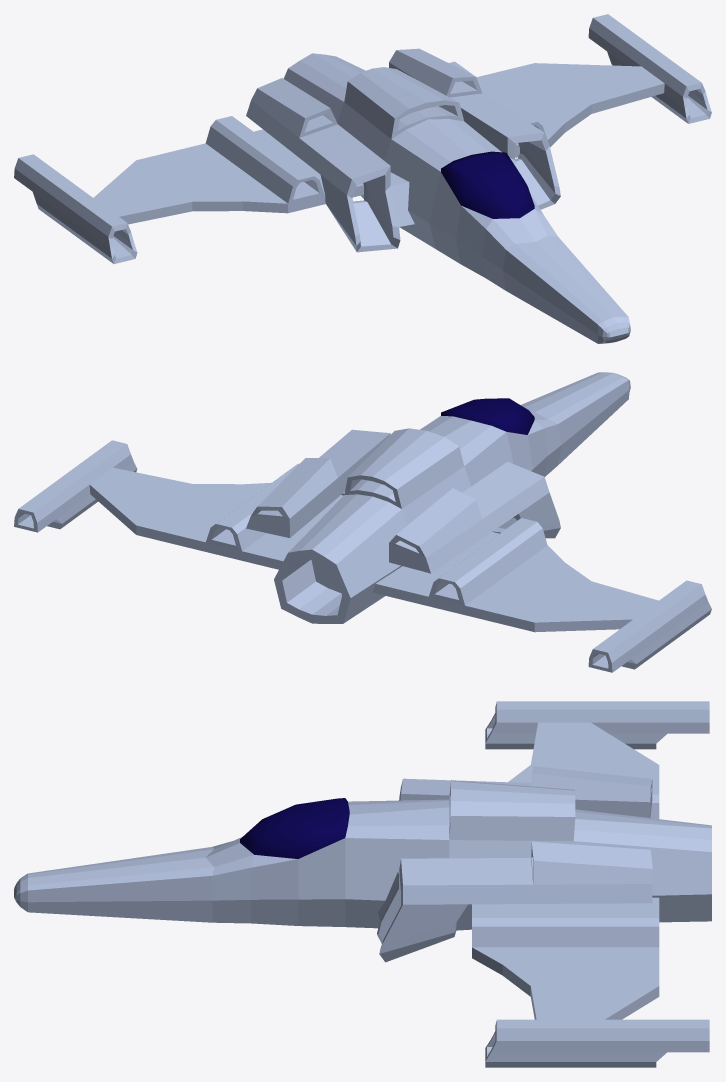
Rendered from Spaceship.gltf.
3 views of the same model, one above another, from view 1: azimuth 30°, elevation 25°; view 2: azimuth 150°, elevation 25°; view 3: azimuth 270°, elevation 25° (orthographic). The views are drawn at different scales.
Visible parts, largest first — view 1: Spaceship3; view 2: Spaceship3; view 3: Spaceship3.
Part boxes in pixels (bbox=[...]): Spaceship3: bbox=[14, 14, 711, 343]; Spaceship3: bbox=[14, 372, 711, 672]; Spaceship3: bbox=[14, 701, 711, 1067].
Bounding box in the file's own units: 10.38 × 1.86 × 9.21.
